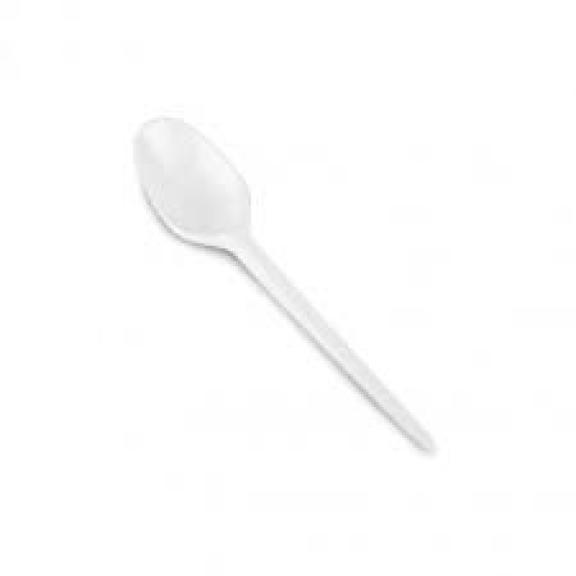Plastik: (136, 118, 435, 453)
